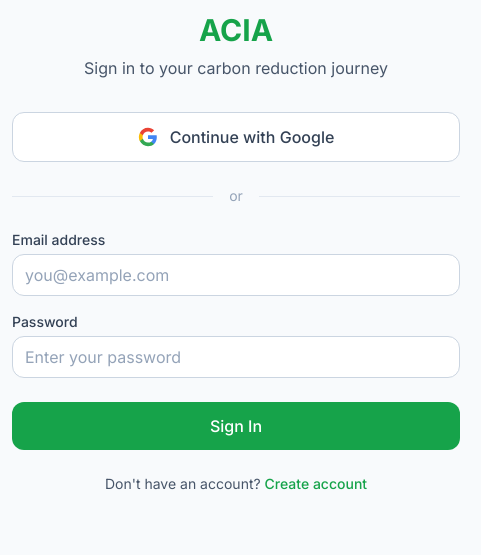
LoginForm › shows validation errors for empty form on submit
The image size is (481, 555).
Click the button "Sign In" at point(236, 426), box [12,402,460,450]
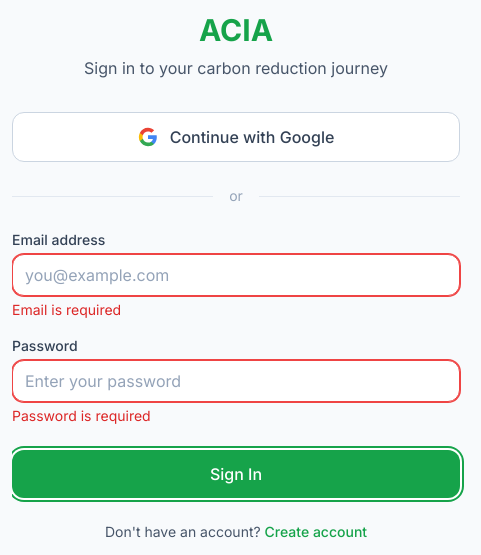
Result: the message "Email is required" is shown at [12,301,121,318]
